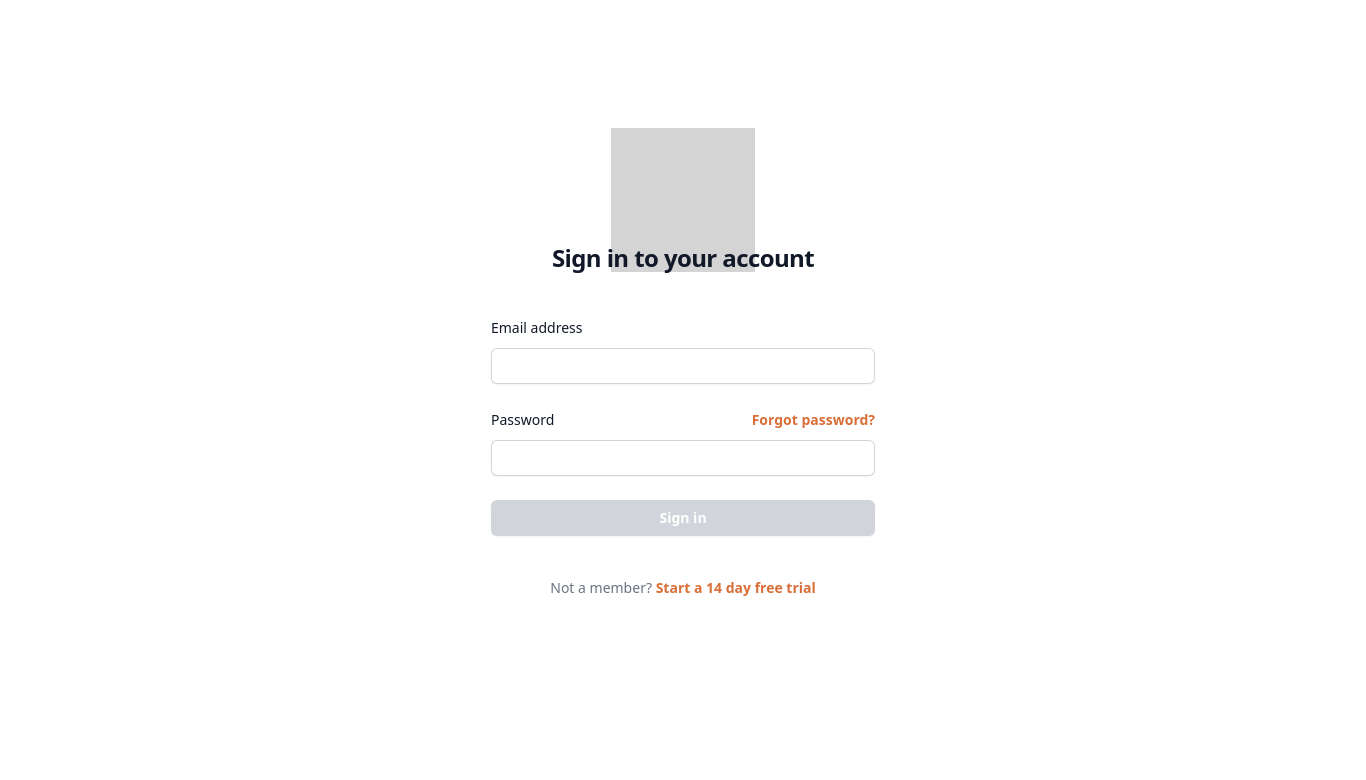
Test: Auth flow › Check if we can successful login
Type "admin@akvelon.com" into the field named "email" at (683, 366), box [491,348,875,384]
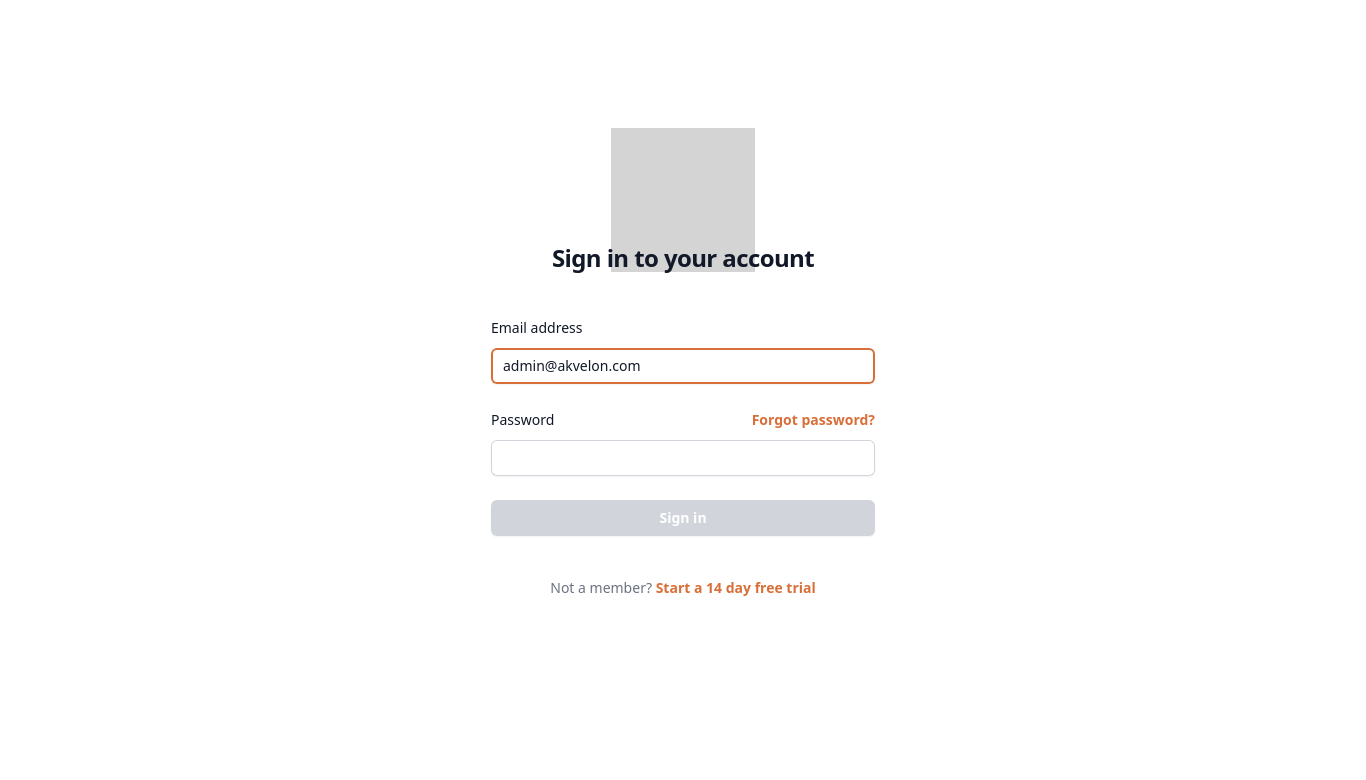
Type "admin" into the password field named "password" at (683, 458), box [491,440,875,476]
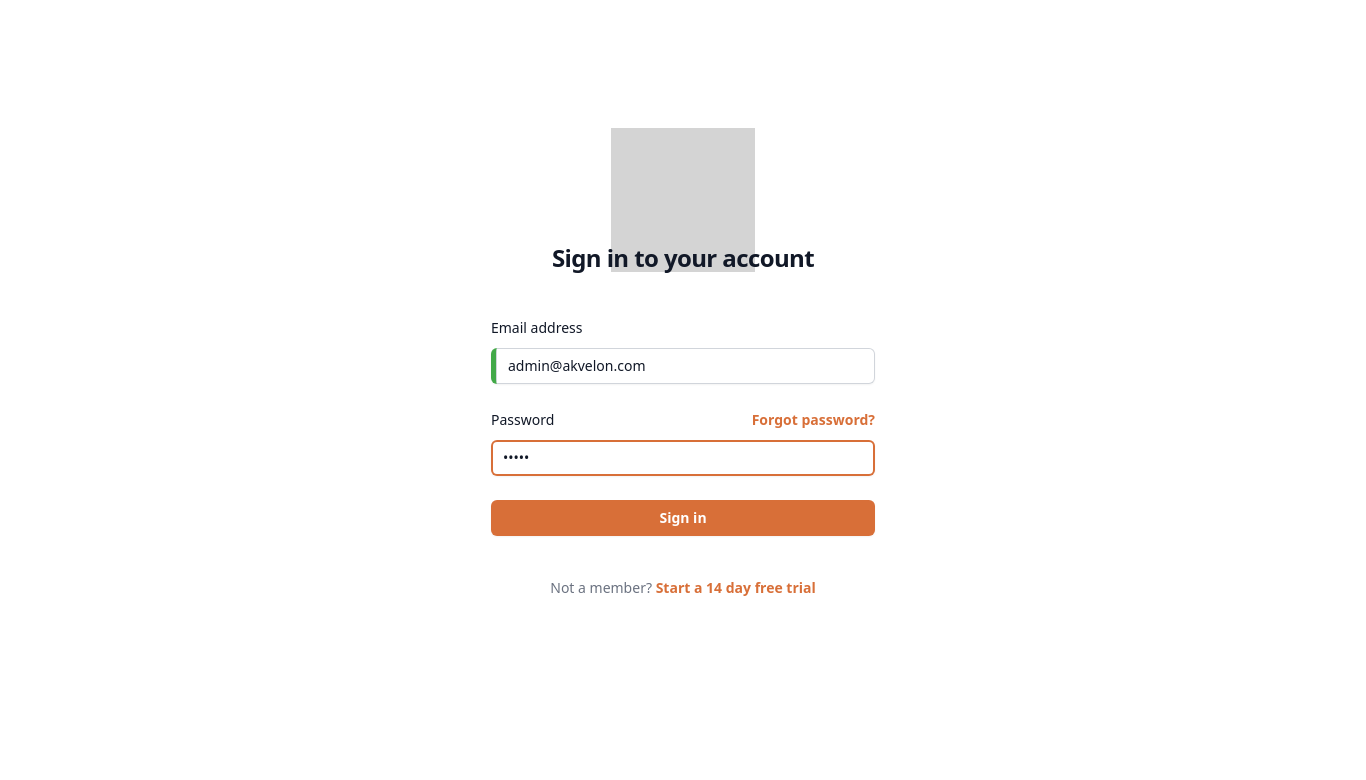
Click the button "Sign in" at (683, 518), box [491,500,875,536]
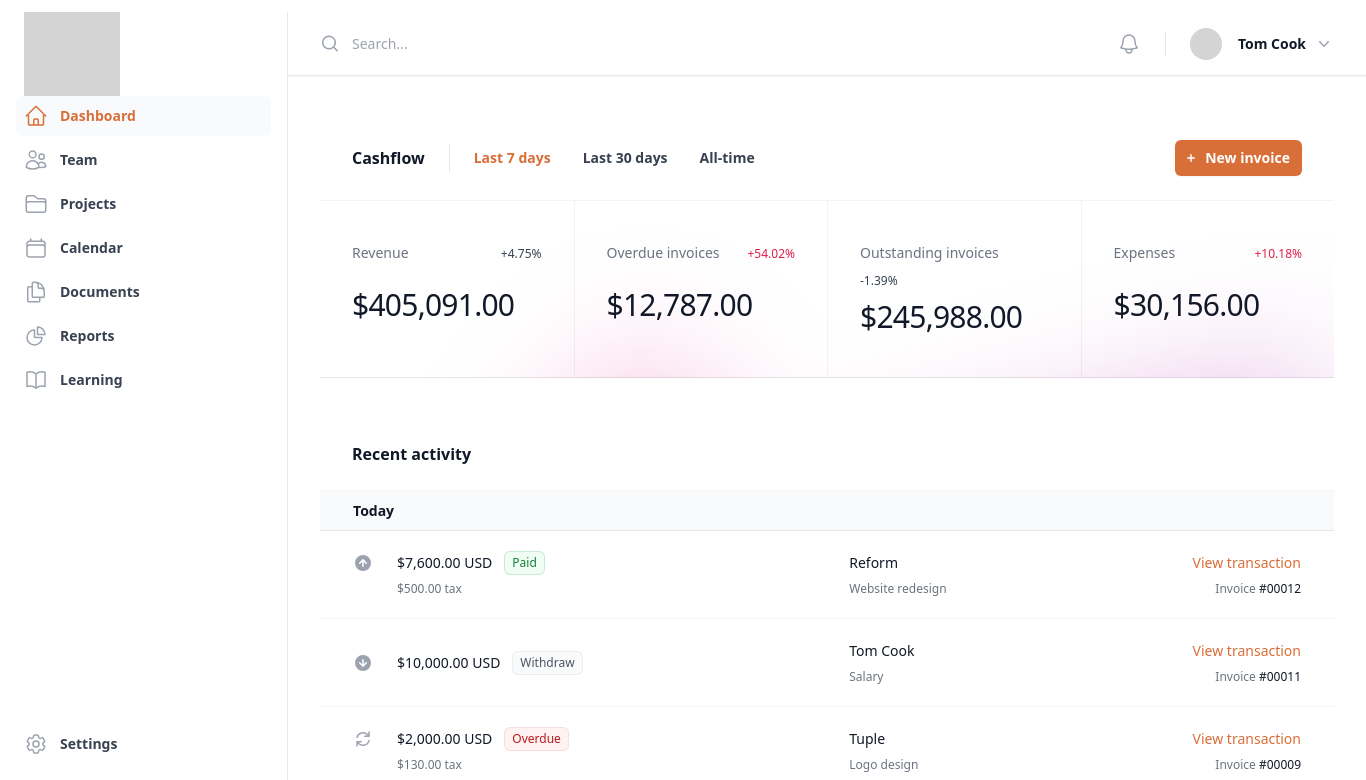
Expected: the button with id "user-menu-button" is shown, [1184,22,1340,66]
